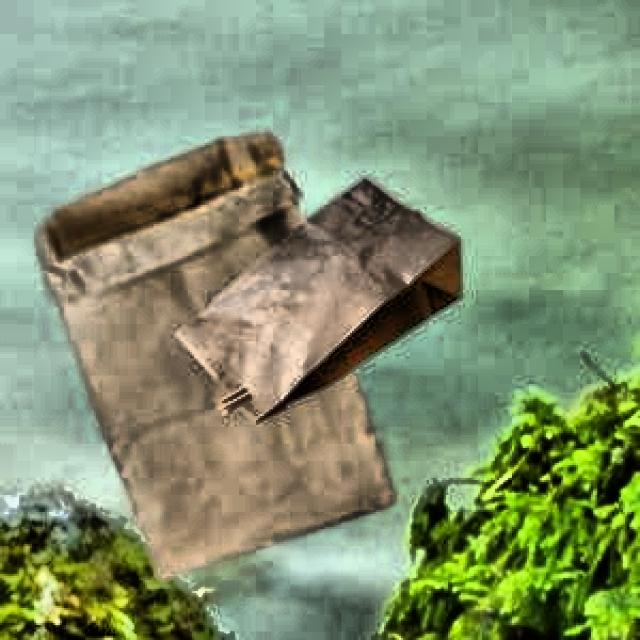Paper-bag: (29, 135, 420, 594), (163, 160, 472, 440)
